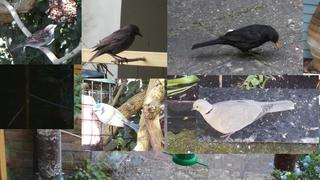blackbird: (191, 24, 279, 58)
blue tit: (91, 103, 140, 131)
collared dove: (191, 99, 295, 141)
sparrow: (10, 24, 58, 52)
starling: (88, 24, 143, 65)
